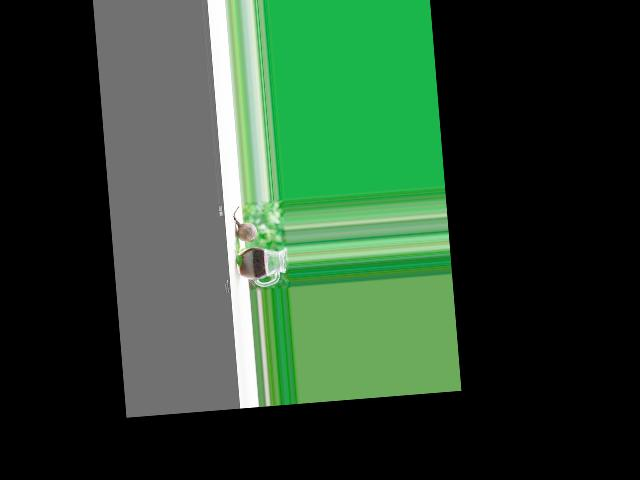beet: (232, 205, 257, 243)
